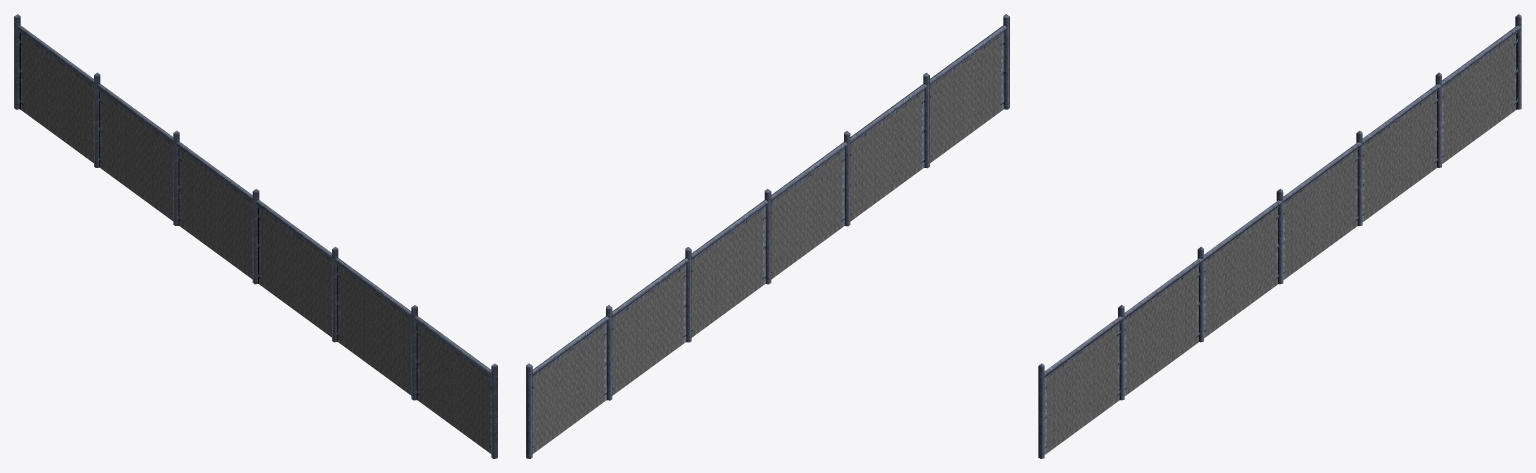
File: OPFC05.glb
3 views of the same model, side by side, from view 1: azimuth 30°, elevation 25°; view 2: azimuth 150°, elevation 25°; view 3: azimuth 330°, elevation 25° (orthographic).
Parts seen in each view (by area): view 1: _OPFC05; view 2: _OPFC05; view 3: _OPFC05.
Boxes of the visible parts, <box> form: _OPFC05: <box>14,14,497,458</box>; _OPFC05: <box>526,14,1009,458</box>; _OPFC05: <box>1038,14,1521,458</box>.
Size of the model in its own units: 0.0724 by 1.18 by 10.89.
2 materials, 2 textured.
